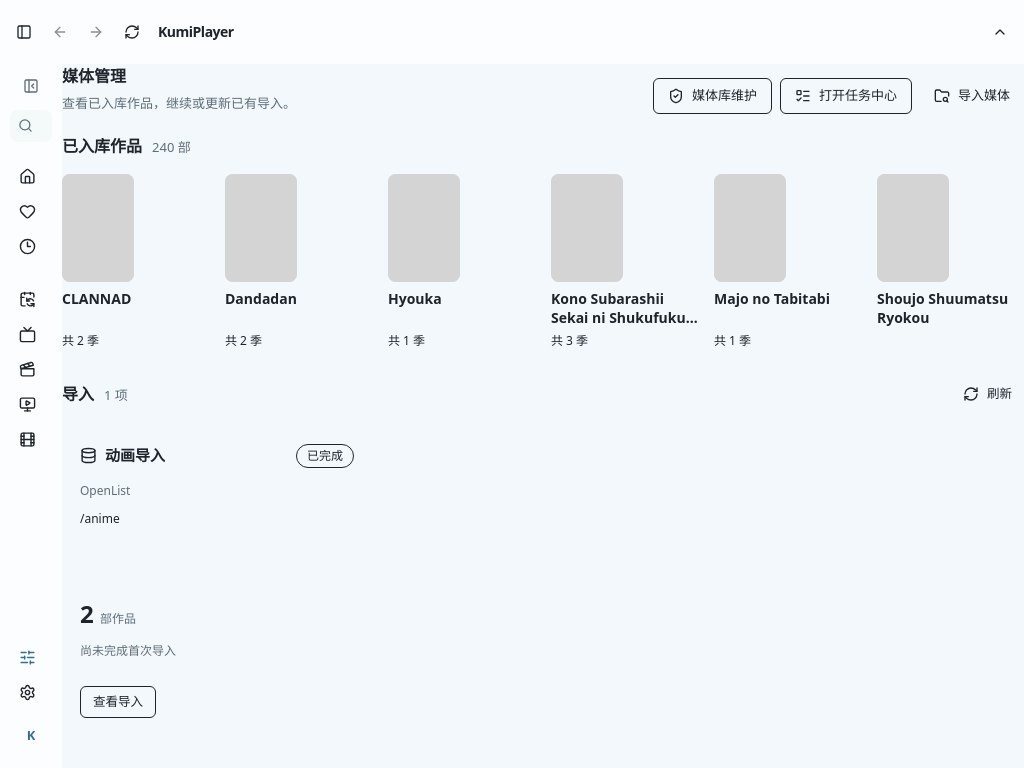
Test: 真实后端模式的媒体管理 › 总览仅展示作品与导入卡，导入配置和任务表不混入首页
Expected: the element "已入库作品" is shown, [62,134,1023,354]
Expected: the element named "动画导入导入" is shown, [62,426,372,736]
Click the button "导入媒体" at (972, 96), box [920,78,1023,114]
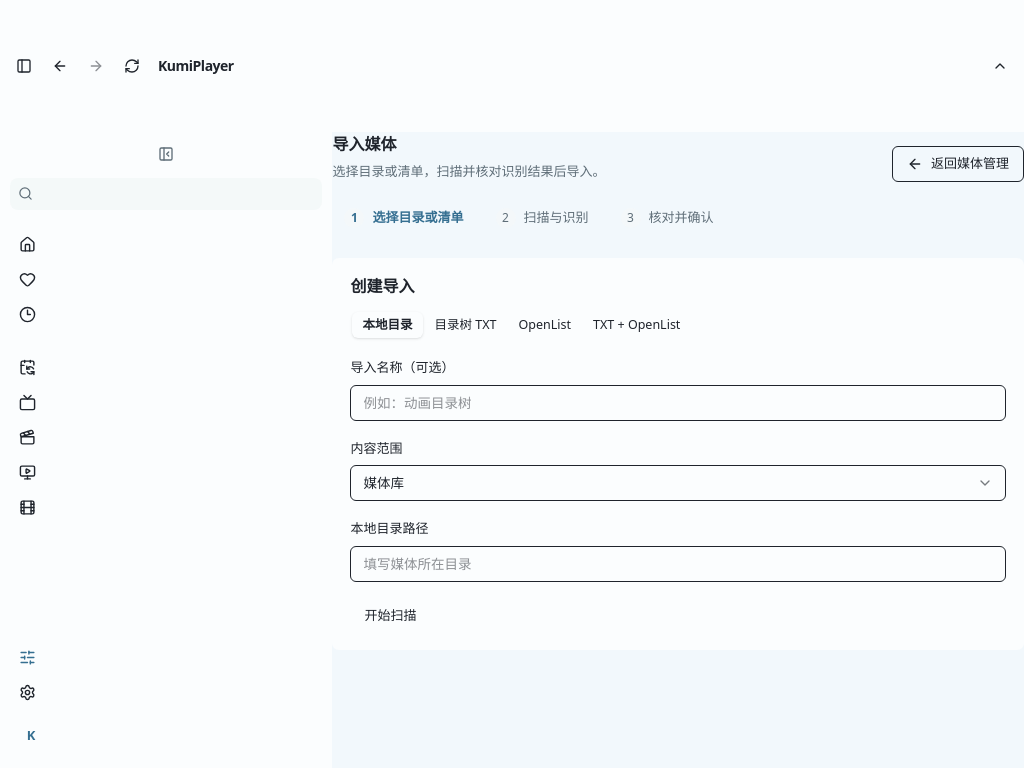
Expected: the element named "导入配置" is shown, [332,258,1023,650]
Expected: the field labelled "本地目录路径" is shown, [350,546,1006,582]
